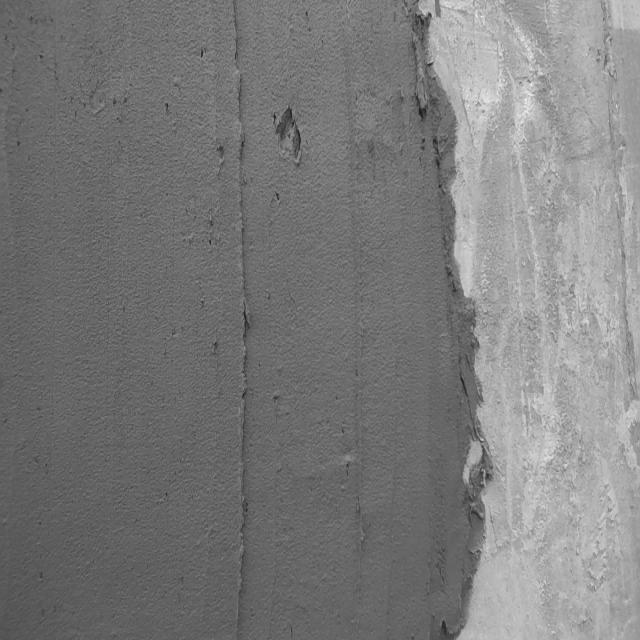trowels marks: (224, 0, 257, 640), (344, 103, 368, 579)
